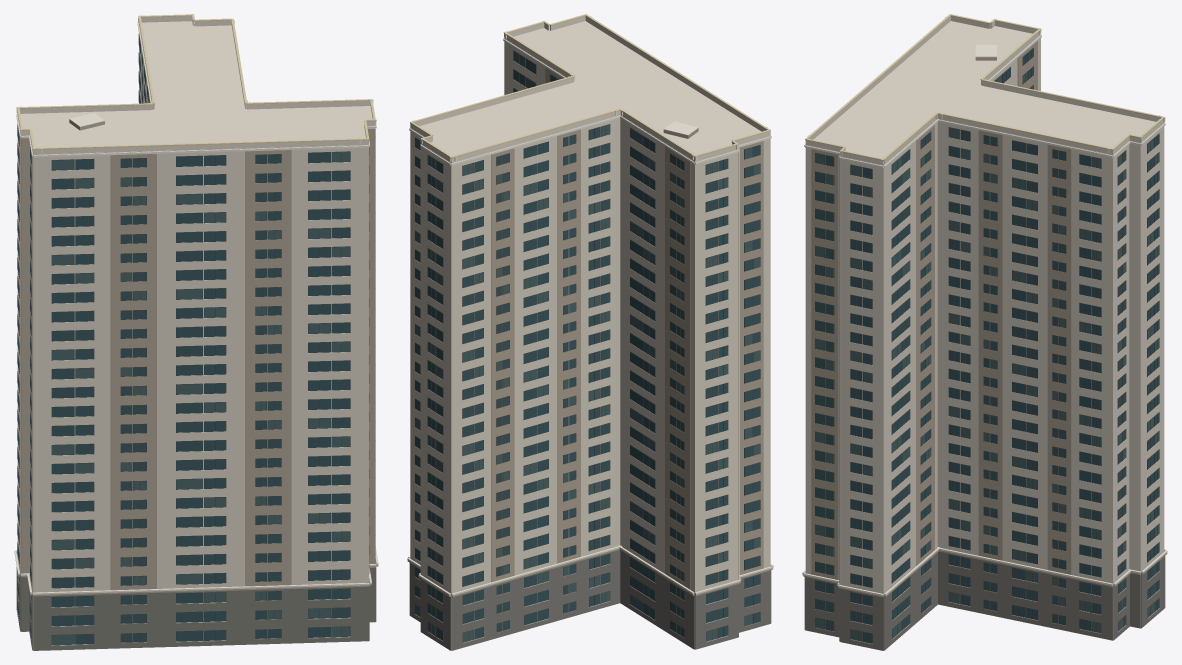
File: bespoke-raemian-prestige-123.glb
The picture shows the model from 3 angles, left to right: view 1: azimuth 30°, elevation 25°; view 2: azimuth 150°, elevation 25°; view 3: azimuth 270°, elevation 25°; orthographic projection. The views are drawn at different scales.
Parts seen in each view (by area): view 1: Prestige_warm_ivory_rendered_wall009, Prestige_recessed_blue_green_window009, Prestige_wide_taupe_pilasters009, Prestige_dark_bronze_thin_window_frame009, Prestige_dark_brown_grey_stone_base009, Prestige_muted_green_window_pair009, Prestige_pale_limestone_band009, Prestige_cream_gold_crown_coping009; view 2: Prestige_warm_ivory_rendered_wall009, Prestige_recessed_blue_green_window009, Prestige_wide_taupe_pilasters009, Prestige_dark_bronze_thin_window_frame009, Prestige_dark_brown_grey_stone_base009, Prestige_muted_green_window_pair009, Prestige_pale_limestone_band009, Prestige_cream_gold_crown_coping009; view 3: Prestige_warm_ivory_rendered_wall009, Prestige_recessed_blue_green_window009, Prestige_wide_taupe_pilasters009, Prestige_dark_bronze_thin_window_frame009, Prestige_dark_brown_grey_stone_base009, Prestige_muted_green_window_pair009, Prestige_pale_limestone_band009, Prestige_cream_gold_crown_coping009.
Boxes of the visible parts, x1,y1,x2,y2 form: Prestige_warm_ivory_rendered_wall009: [17, 16, 375, 649]; Prestige_recessed_blue_green_window009: [17, 40, 369, 644]; Prestige_wide_taupe_pilasters009: [18, 50, 378, 643]; Prestige_dark_bronze_thin_window_frame009: [17, 34, 350, 645]; Prestige_dark_brown_grey_stone_base009: [16, 552, 376, 650]; Prestige_muted_green_window_pair009: [17, 34, 369, 645]; Prestige_pale_limestone_band009: [14, 19, 378, 594]; Prestige_cream_gold_crown_coping009: [16, 14, 376, 149]; Prestige_warm_ivory_rendered_wall009: [410, 16, 770, 650]; Prestige_recessed_blue_green_window009: [415, 59, 760, 640]; Prestige_wide_taupe_pilasters009: [407, 67, 773, 637]; Prestige_dark_bronze_thin_window_frame009: [415, 50, 760, 642]; Prestige_dark_brown_grey_stone_base009: [409, 550, 771, 650]; Prestige_muted_green_window_pair009: [415, 51, 760, 642]; Prestige_pale_limestone_band009: [407, 34, 773, 595]; Prestige_cream_gold_crown_coping009: [410, 14, 770, 158]; Prestige_warm_ivory_rendered_wall009: [805, 16, 1164, 644]; Prestige_recessed_blue_green_window009: [815, 48, 1159, 643]; Prestige_wide_taupe_pilasters009: [802, 41, 1167, 631]; Prestige_dark_bronze_thin_window_frame009: [815, 47, 1159, 643]; Prestige_dark_brown_grey_stone_base009: [804, 551, 1165, 650]; Prestige_muted_green_window_pair009: [815, 72, 1159, 641]; Prestige_pale_limestone_band009: [802, 30, 1167, 595]; Prestige_cream_gold_crown_coping009: [805, 14, 1165, 160].
Bounding box in the file's own units: 47.67 × 73.7 × 49.66.
